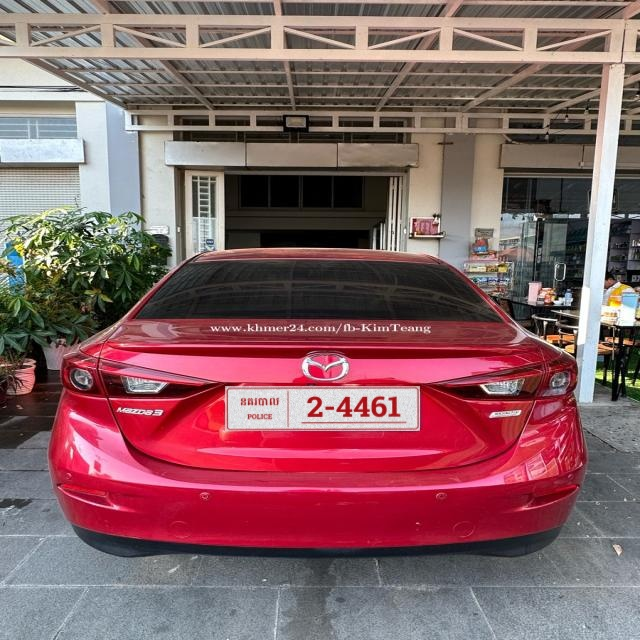Plate Number: (225, 387, 421, 431)
